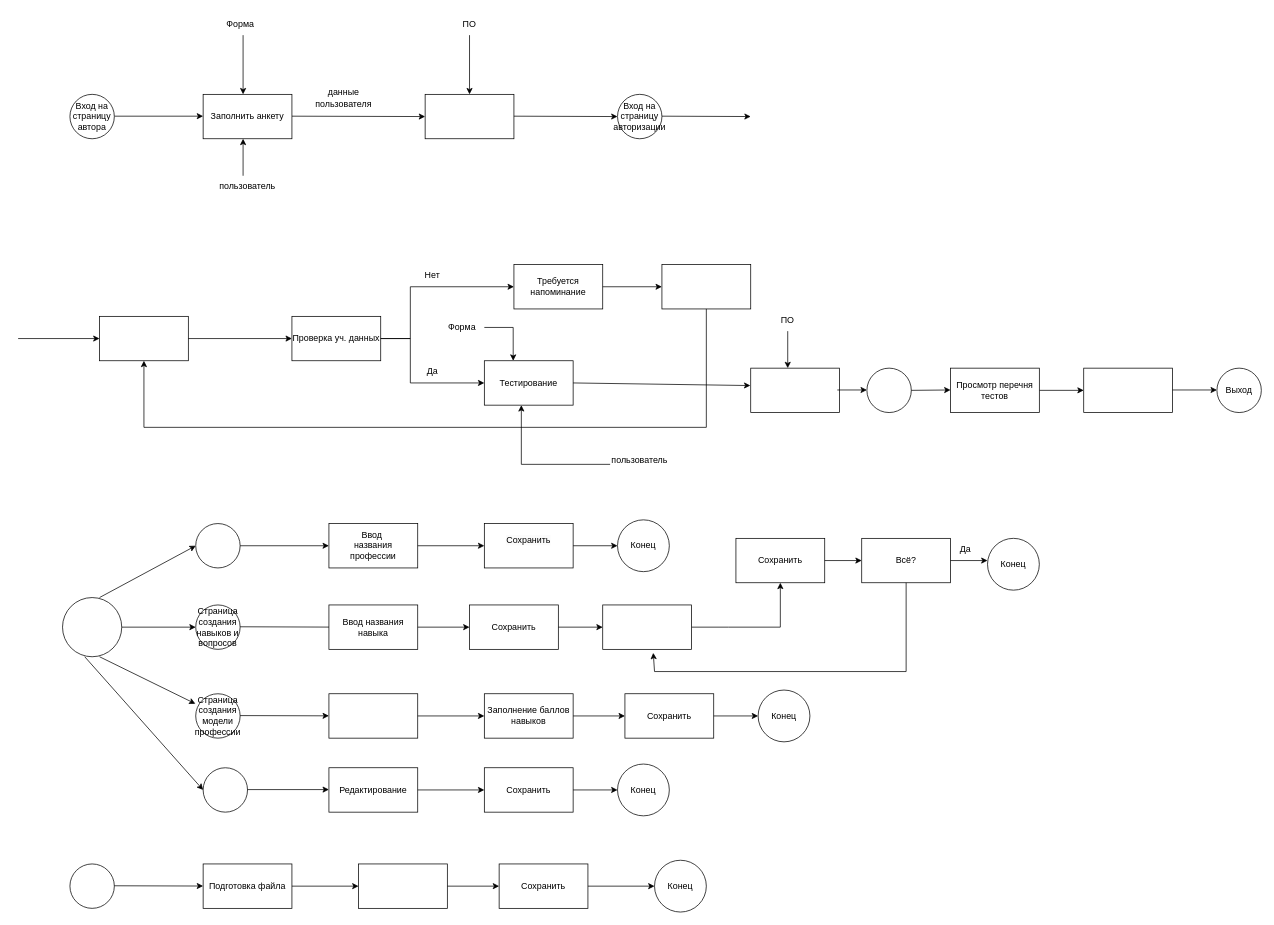
The diagram is 1274 pixels wide and 925 high, and some of its shapes have lost their labels. The centre of each missing label's shape, as x and y in pixels:
"Админ" belongs at (x=92, y=627).
"Ввод вопроса" belongs at (x=647, y=626).
"Ввод уч. данных" belongs at (x=143, y=338).
"Вход на страницу" belongs at (x=91, y=885).
"Вход на страницу редакти-рования" belongs at (x=225, y=789).
"Вход на страницу статистики" belongs at (x=888, y=390).
"Выбор профессии" belongs at (x=373, y=715).
"Выбор сертификата" belongs at (x=402, y=885).
"Дать новый пароль" belongs at (x=706, y=286).
"Получение серфитиката" belongs at (x=1128, y=390).
"Создать уч. запись" belongs at (x=469, y=116).
"Сохранение результатов" belongs at (x=795, y=390).
"Страница создания профессии" belongs at (x=217, y=545).
